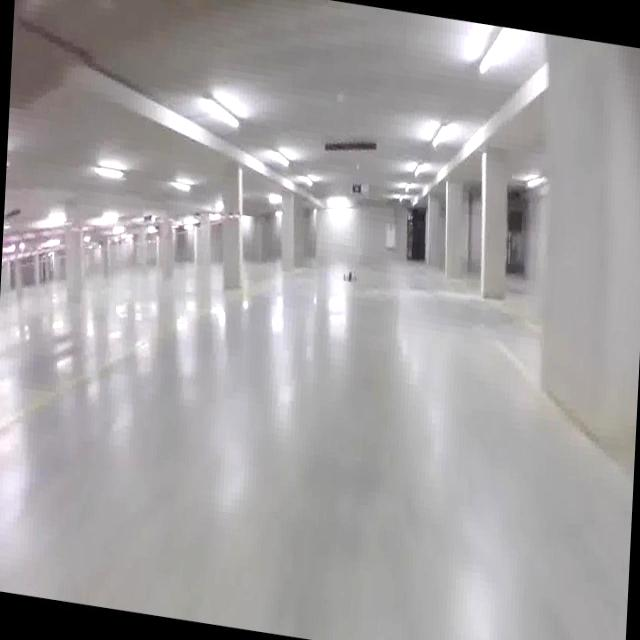drone: (342, 263, 360, 292)
